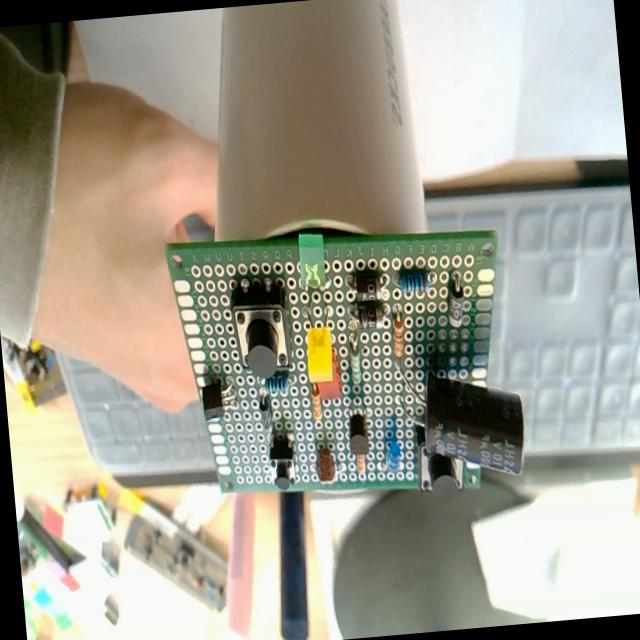Electrolytic capacitor: (417, 360, 530, 485)
cds: (314, 448, 336, 484)
diode: (444, 276, 468, 328), (353, 270, 383, 302), (258, 395, 272, 432)
led: (302, 326, 336, 386), (295, 231, 327, 288), (381, 418, 404, 474)
resistor: (394, 266, 432, 297), (347, 300, 388, 328), (347, 340, 363, 388), (390, 313, 406, 357), (263, 371, 291, 396), (310, 384, 323, 422), (356, 454, 366, 478)
switch: (228, 276, 293, 380), (410, 430, 468, 496), (266, 434, 298, 491)
transistor: (198, 375, 240, 424), (346, 414, 369, 456)
